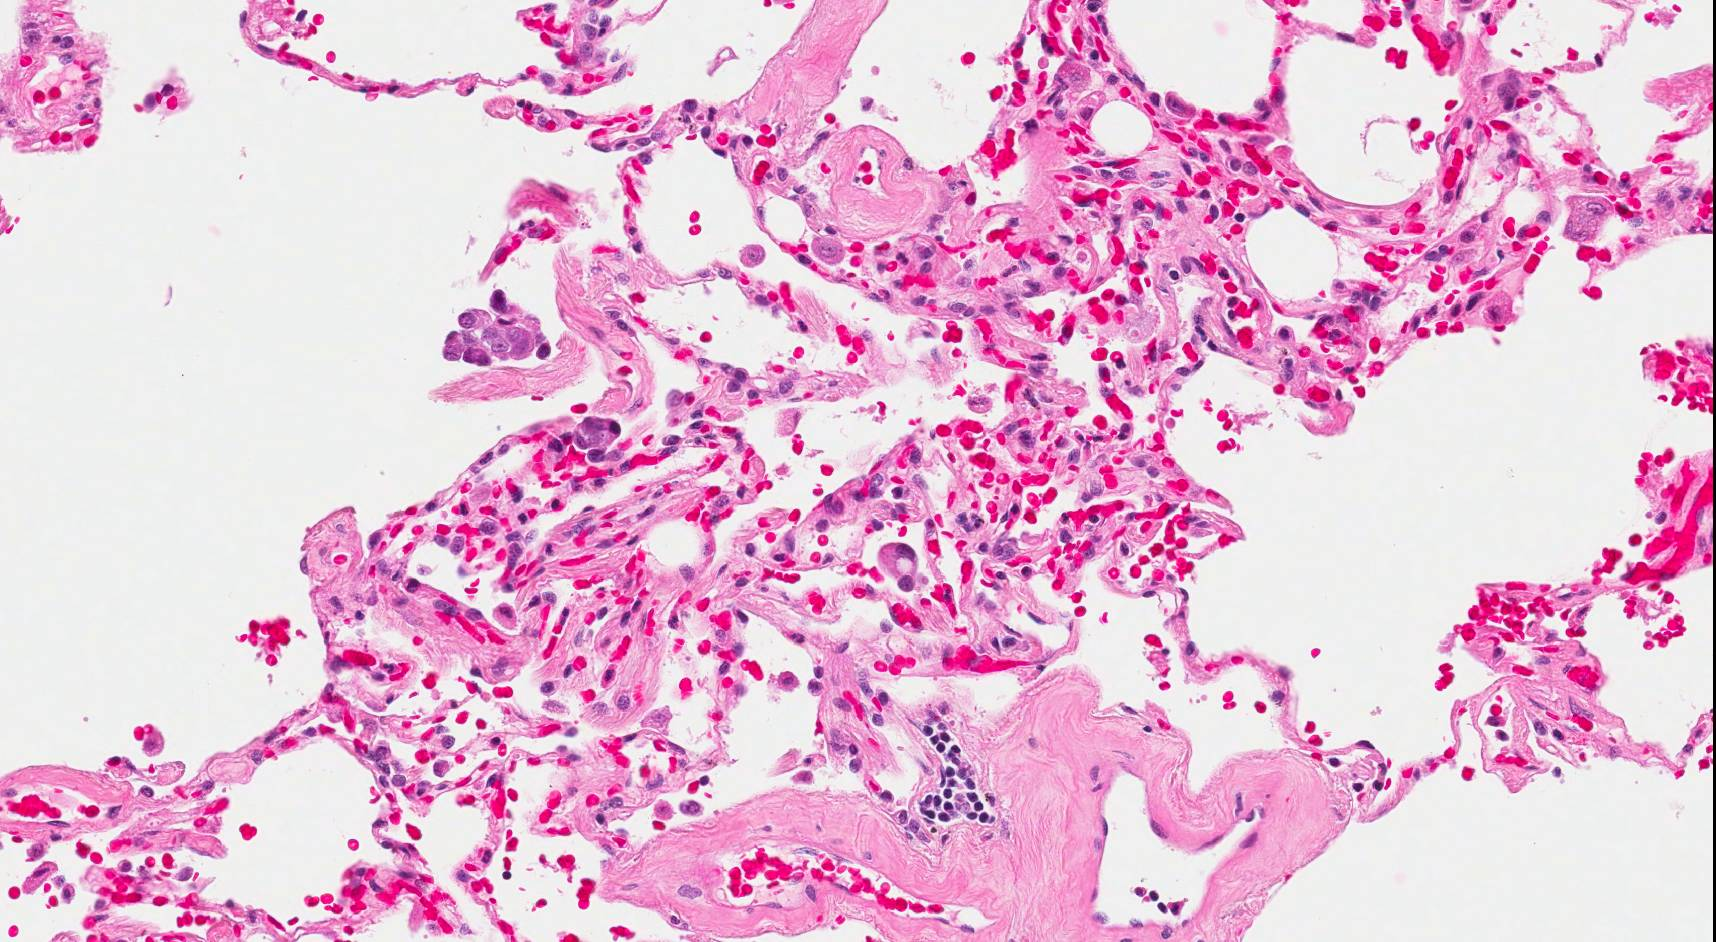stas: (440, 287, 552, 368), (572, 409, 629, 463)
